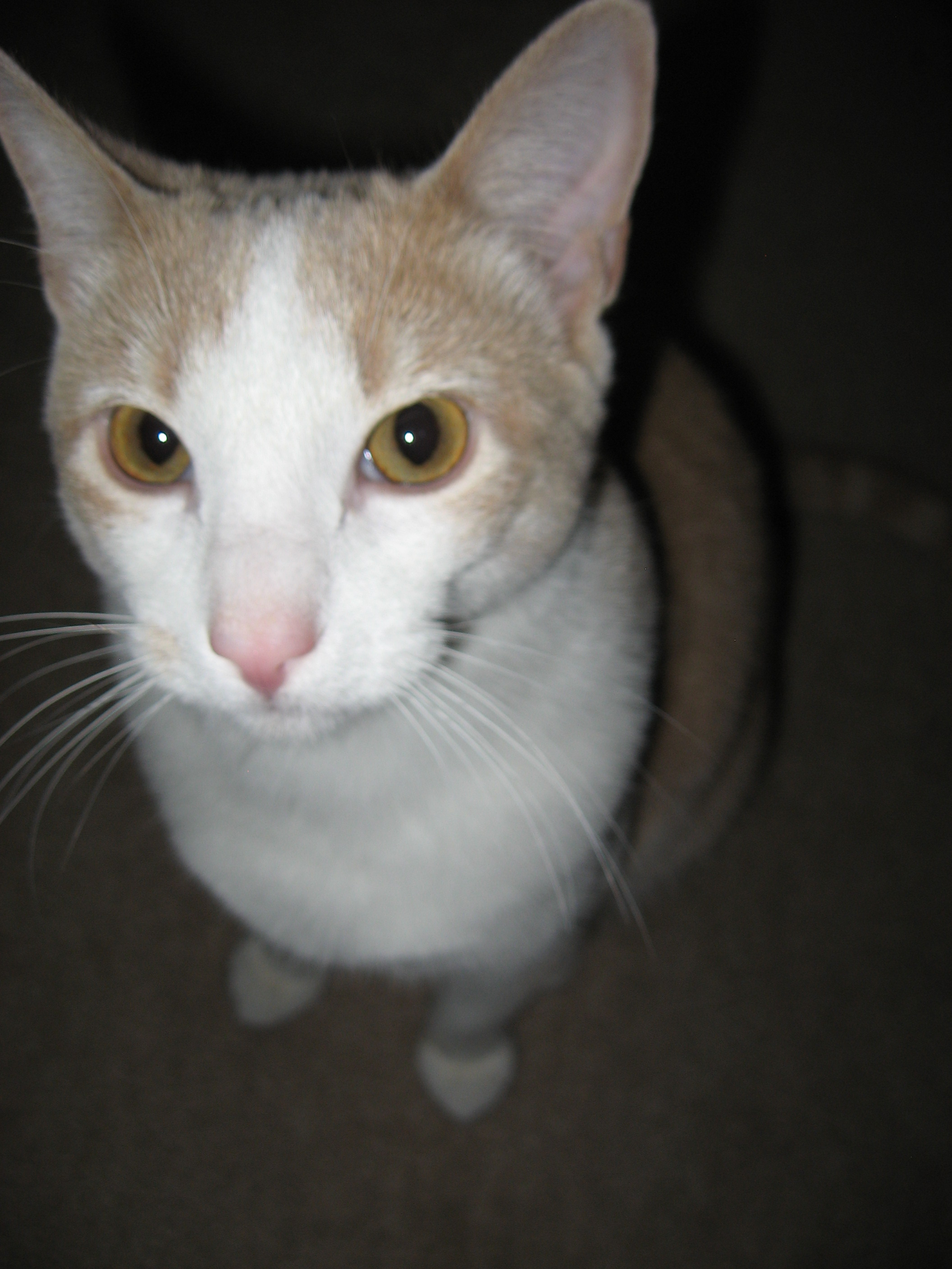cat: (111, 0, 951, 1043)
